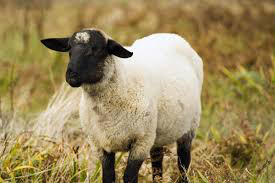koyun: (40, 27, 204, 183)
